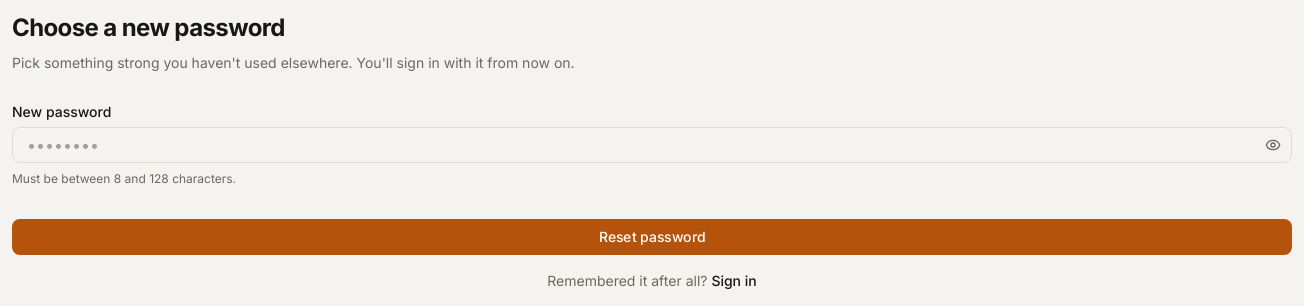
Test: ResetPasswordFlow — user behaviour › transitions to invalid when token rejected
Type "new-sup3r-pass" into the password field labelled "New password". click: (652, 145)
box: [13,128,1291,162]
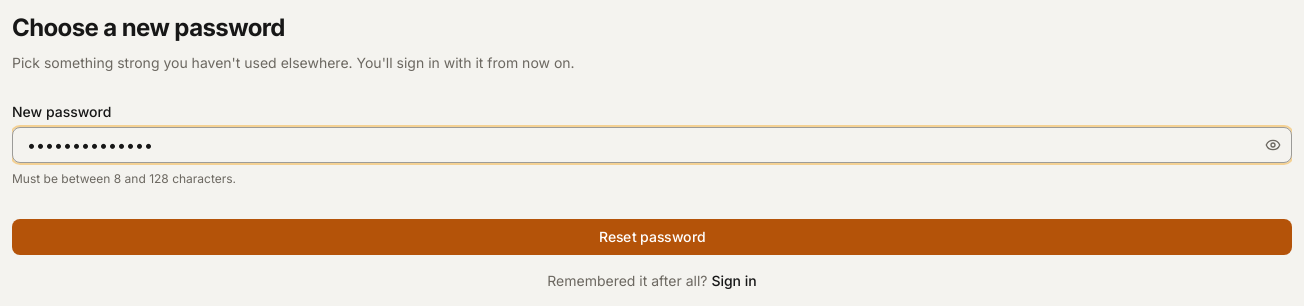
Click the button named "reset password". click: (652, 237)
box: [12,219,1292,255]
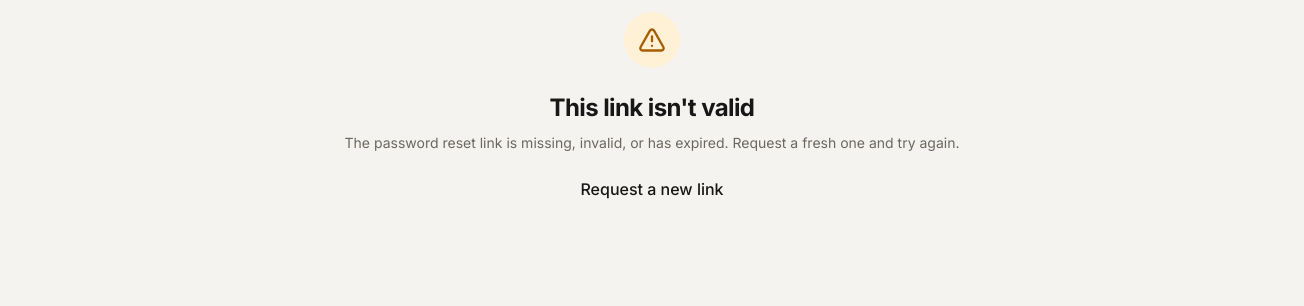
Expected: the heading "This link isn't valid" is shown, [550,93,754,122]
